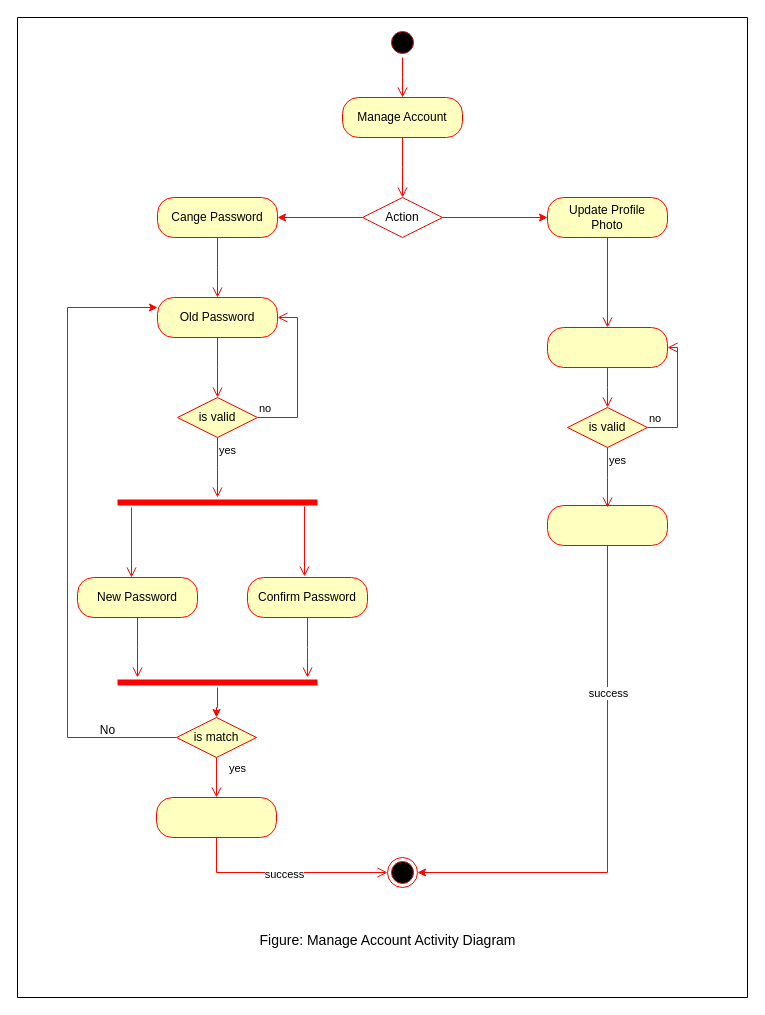
The diagram is 765 pixels wide and 1015 high, and some of its shapes have lost their labels. Each missing label, with the centre of its shape:
Choose Photo: pixel 607 347
Login: pixel 216 817
Update: pixel 607 525
